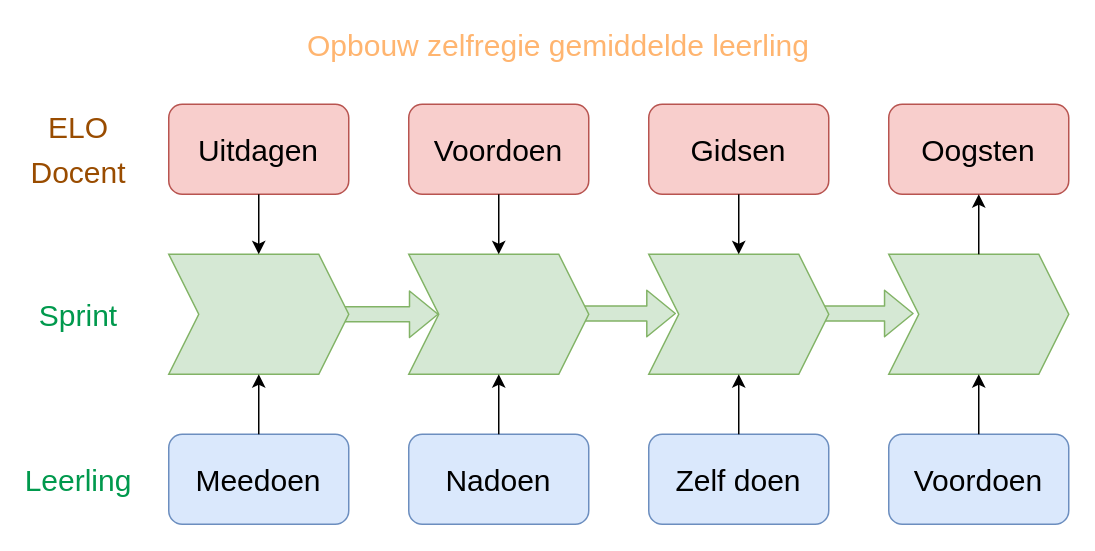
This 1095x551 diagram has some shape labels left out. Here are the shapes that lost their labels. From the top down, the box of each, then its label:
(167, 253, 349, 374): Start
(407, 253, 589, 374): Tussen
(647, 253, 829, 374): Combi
(887, 253, 1069, 374): Eind
